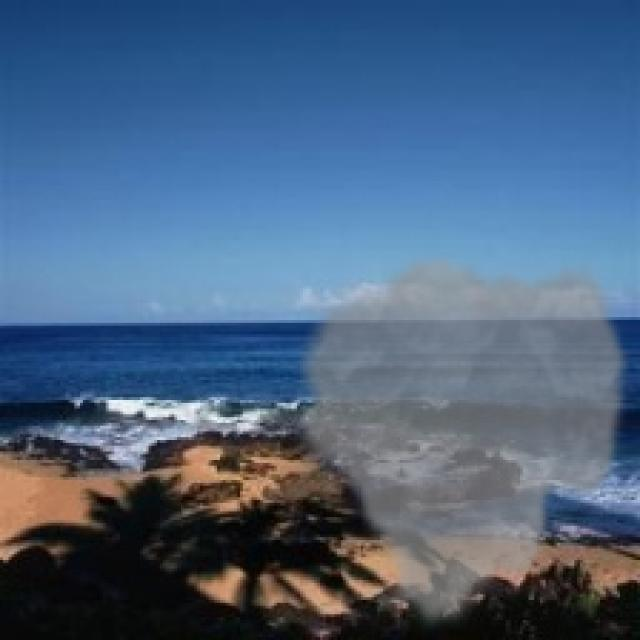smoke: (289, 252, 634, 634)
